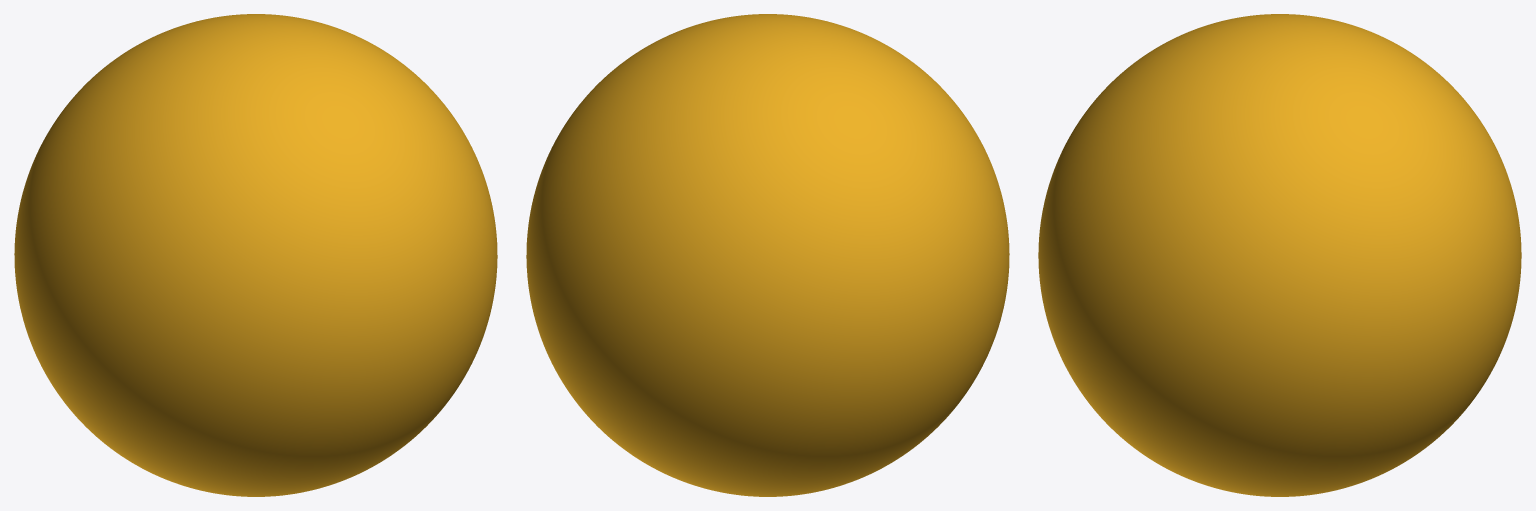
The model's file is yellow_ball.obj.
3 renders of one model, left to right at view 1: azimuth 30°, elevation 25°; view 2: azimuth 150°, elevation 25°; view 3: azimuth 270°, elevation 25°, orthographic.
Parts seen in each view (by area): view 1: Corpo1; view 2: Corpo1; view 3: Corpo1.
Boxes of the visible parts, x1,y1,x2,y2 form: Corpo1: (14, 14, 497, 496); Corpo1: (526, 14, 1009, 496); Corpo1: (1038, 14, 1521, 496).
Size of the model in its own units: 25 by 24.99 by 25.
